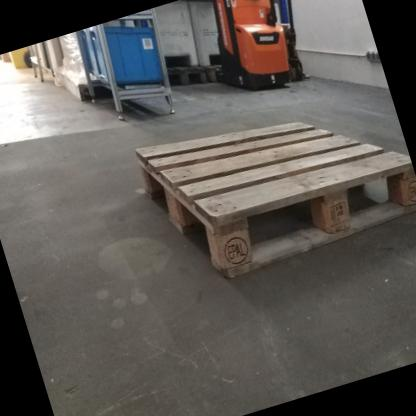BoxFace: (129, 116, 416, 285)
